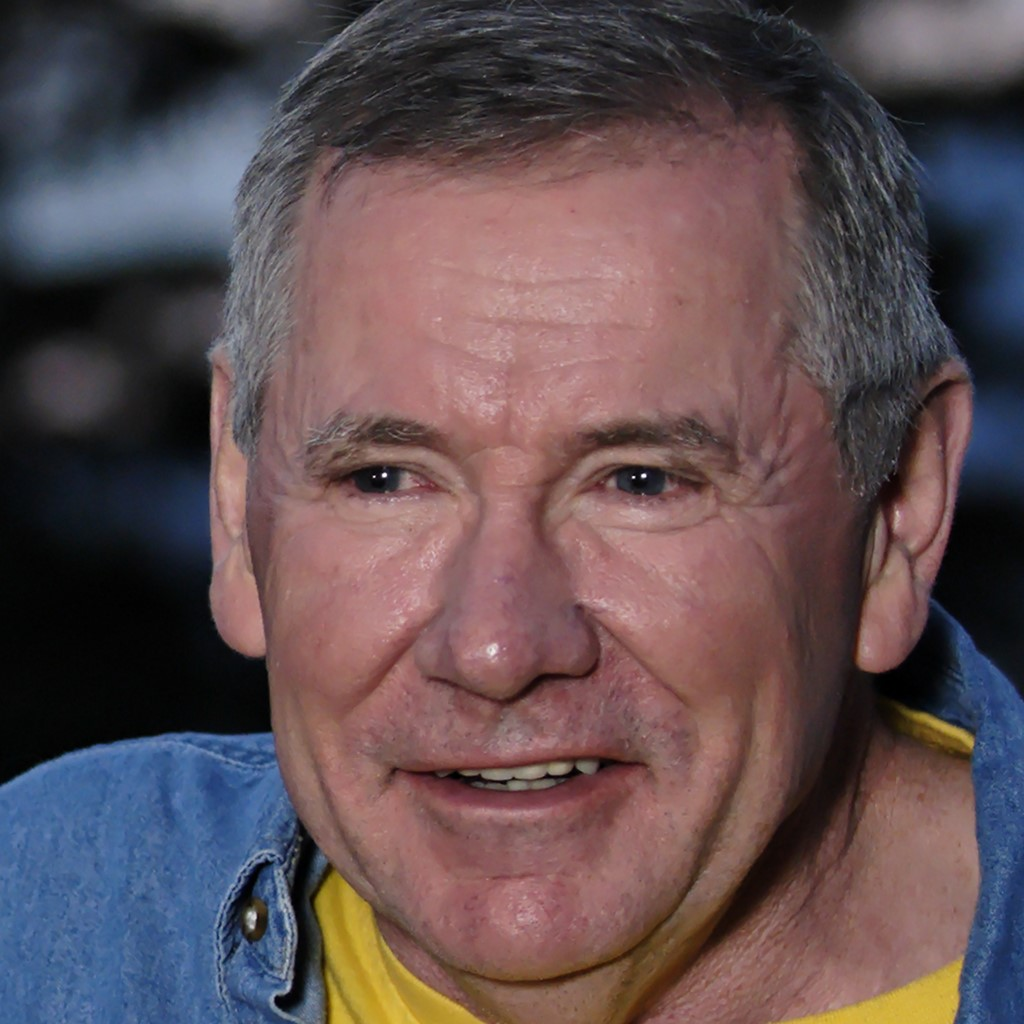sin_mascara: (214, 45, 954, 985)
